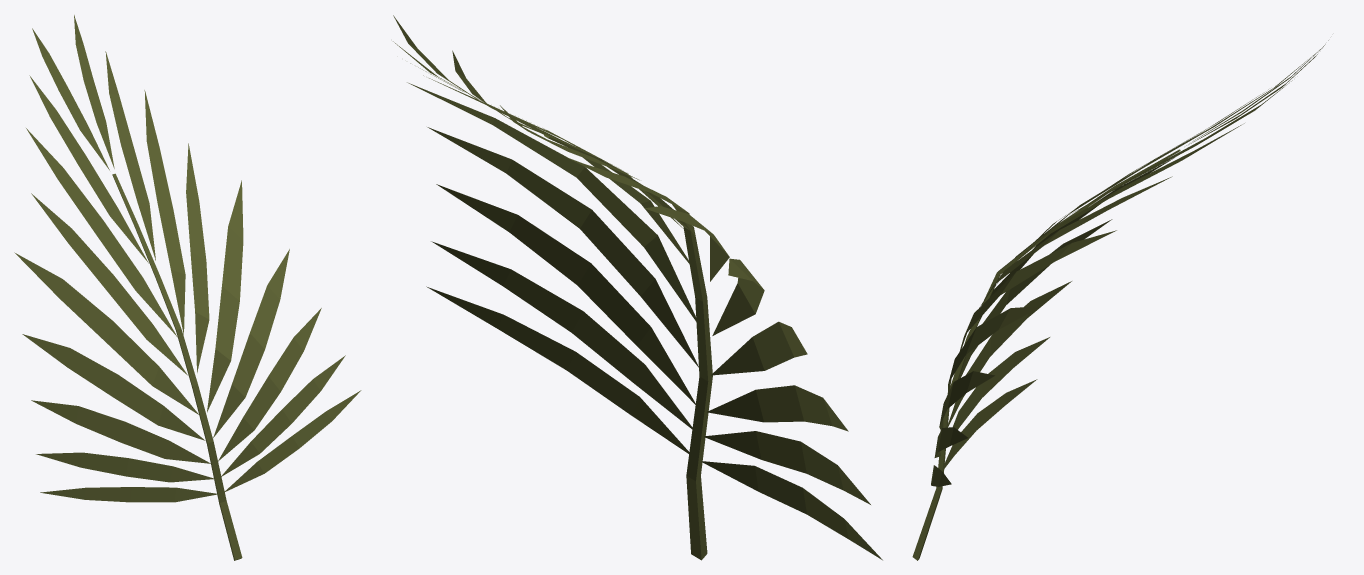
File: Plant_1.fbx
3 renders of one model, left to right at view 1: azimuth 30°, elevation 25°; view 2: azimuth 150°, elevation 25°; view 3: azimuth 270°, elevation 25°, orthographic. The views are drawn at different scales.
Visible parts, largest first — view 1: Plane.001; view 2: Plane.001; view 3: Plane.001.
Boxes of the visible parts, bbox=[...] form: Plane.001: bbox=[14, 15, 361, 560]; Plane.001: bbox=[393, 15, 882, 560]; Plane.001: bbox=[912, 40, 1328, 560].
Bounding box in the file's own units: 124 × 174 × 129.
